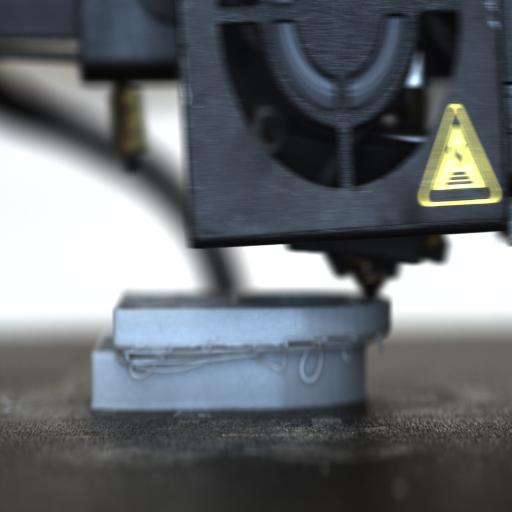layer_shift: (91, 326, 392, 365)
